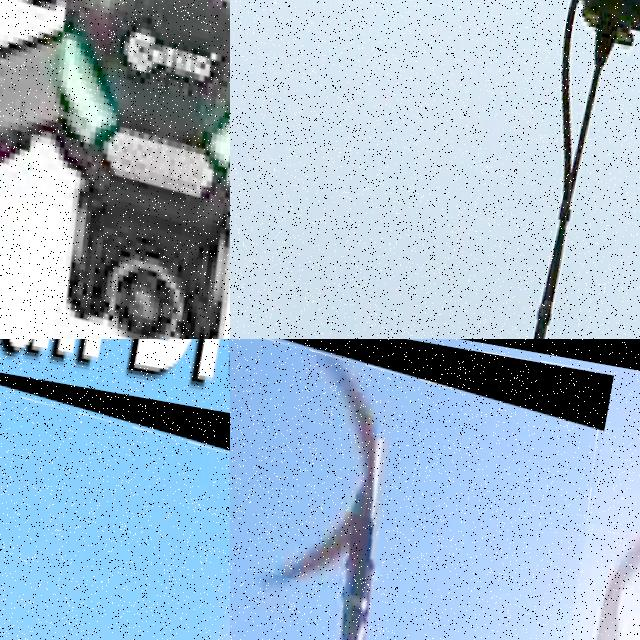0: (230, 339, 613, 640)
drone: (0, 0, 230, 339), (0, 351, 230, 640)
